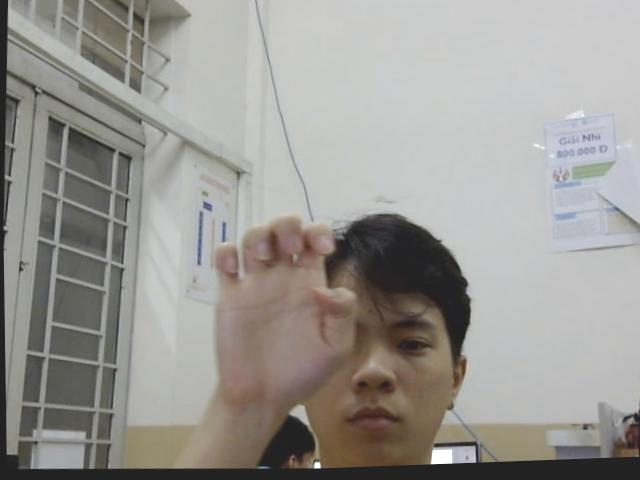E: (205, 209, 360, 414)
